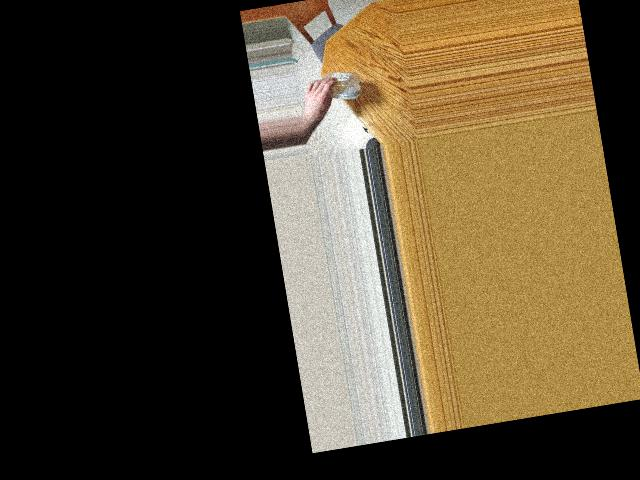cheese: (312, 68, 354, 107)
